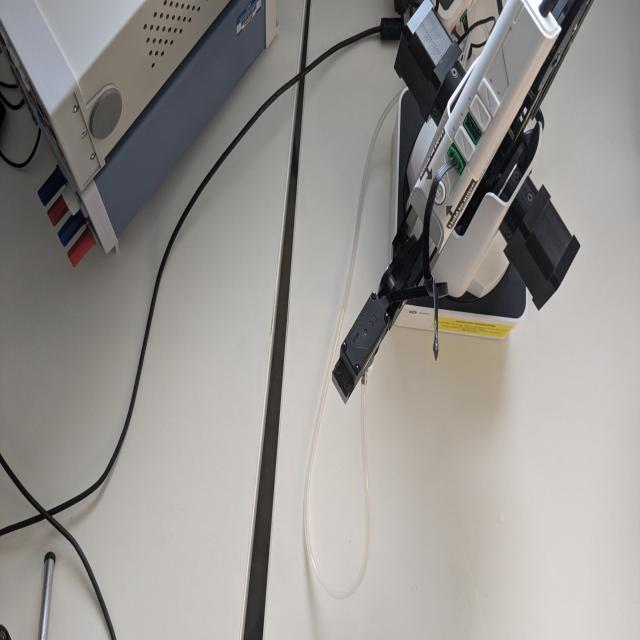Robot-end-effector-HF8z: (324, 286, 400, 408)
